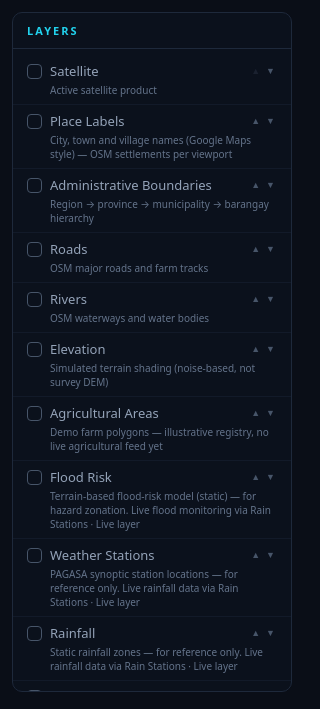
Test: LayerPanel › shows legend entries for visible layers that define one
# Roads has a two-entry legend.
What coordinates should you click on to do the following:
click the text "Roads"
I would click on:
 (69, 249)
Its box is [50,240,88,258].
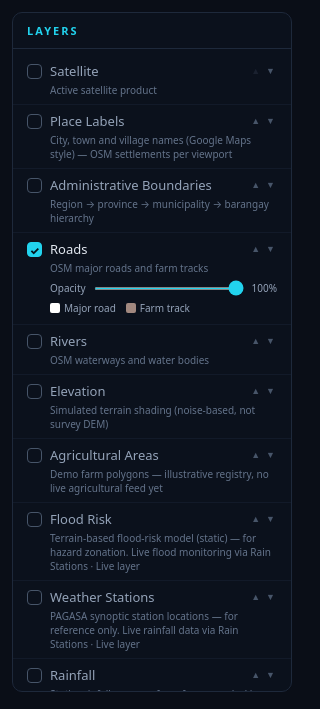
Now the text "Major road" is shown, box [50,301,116,315]
Now the text "Farm track" is shown, box [126,301,190,315]
